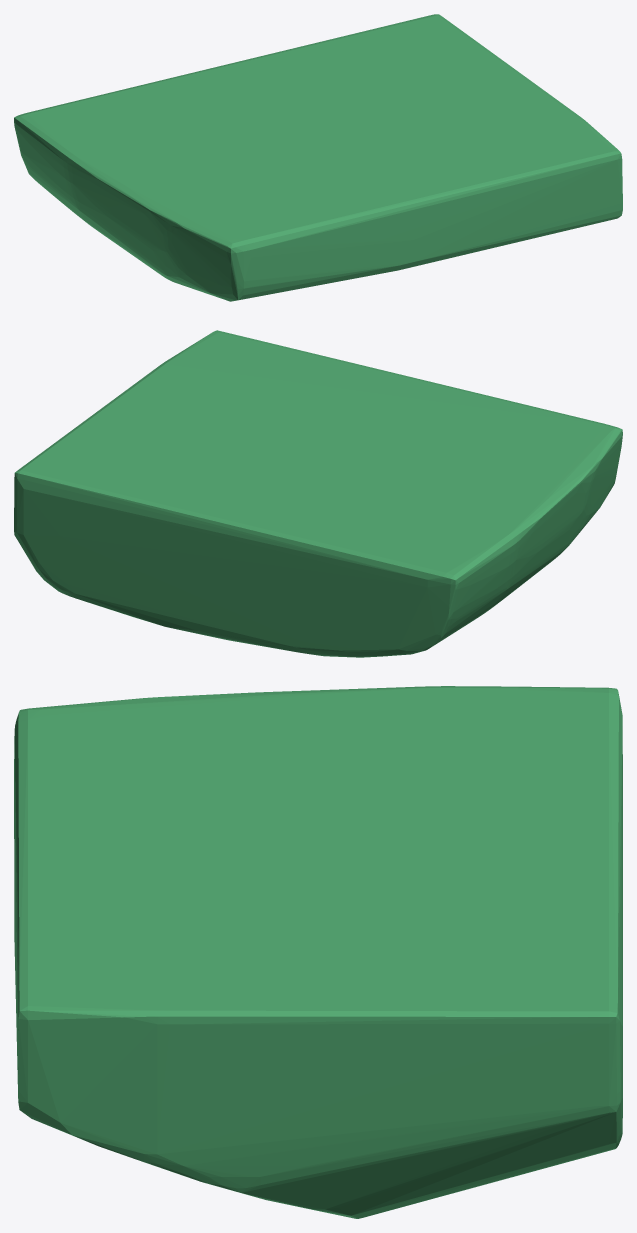
3 renders of one model, top to bottom at view 1: azimuth 30°, elevation 25°; view 2: azimuth 150°, elevation 25°; view 3: azimuth 270°, elevation 25°, orthographic. The views are drawn at different scales.
Bounding box in the file's own units: 0.1862 × 0.063 × 0.1443.
